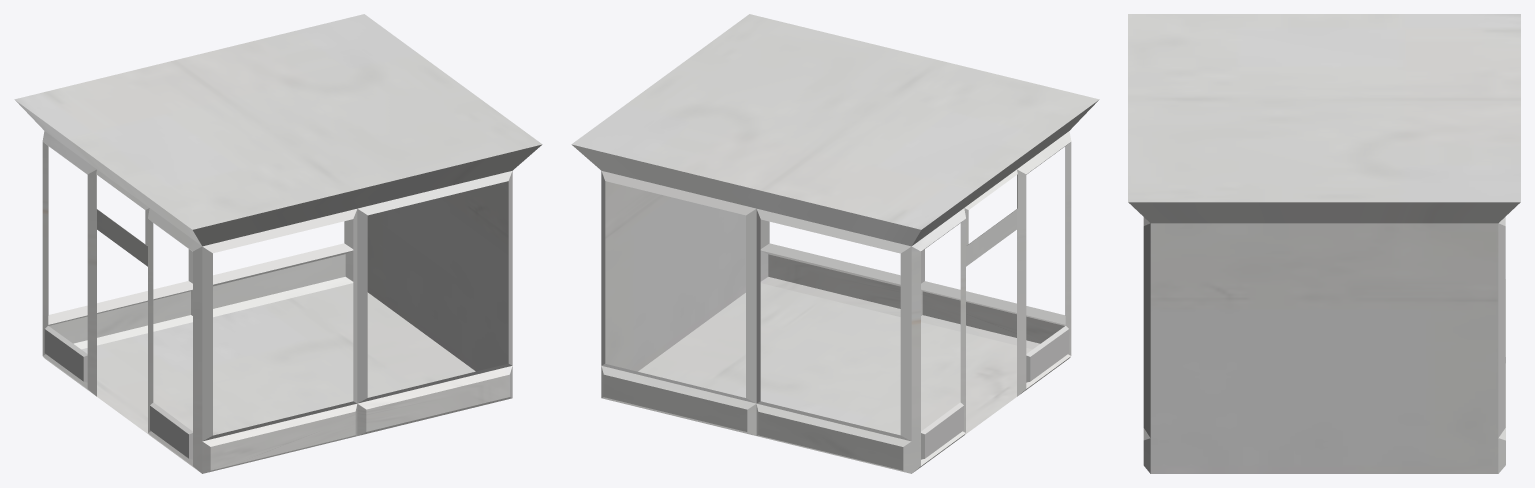
The model's file is Panaderia.obj.
3 renders of one model, left to right at view 1: azimuth 30°, elevation 25°; view 2: azimuth 150°, elevation 25°; view 3: azimuth 270°, elevation 25°, orthographic. The views are drawn at different scales.
Parts seen in each view (by area): view 1: polySurface103 polySurface101; view 2: polySurface103 polySurface101; view 3: polySurface103 polySurface101.
Boxes of the visible parts, bbox=[...] form: polySurface103 polySurface101: bbox=[14, 14, 542, 473]; polySurface103 polySurface101: bbox=[571, 14, 1099, 473]; polySurface103 polySurface101: bbox=[1128, 14, 1520, 473].
Size of the model in its own units: 51.29 by 35.89 by 45.22.
Materials: 1 (1 with a texture image).
